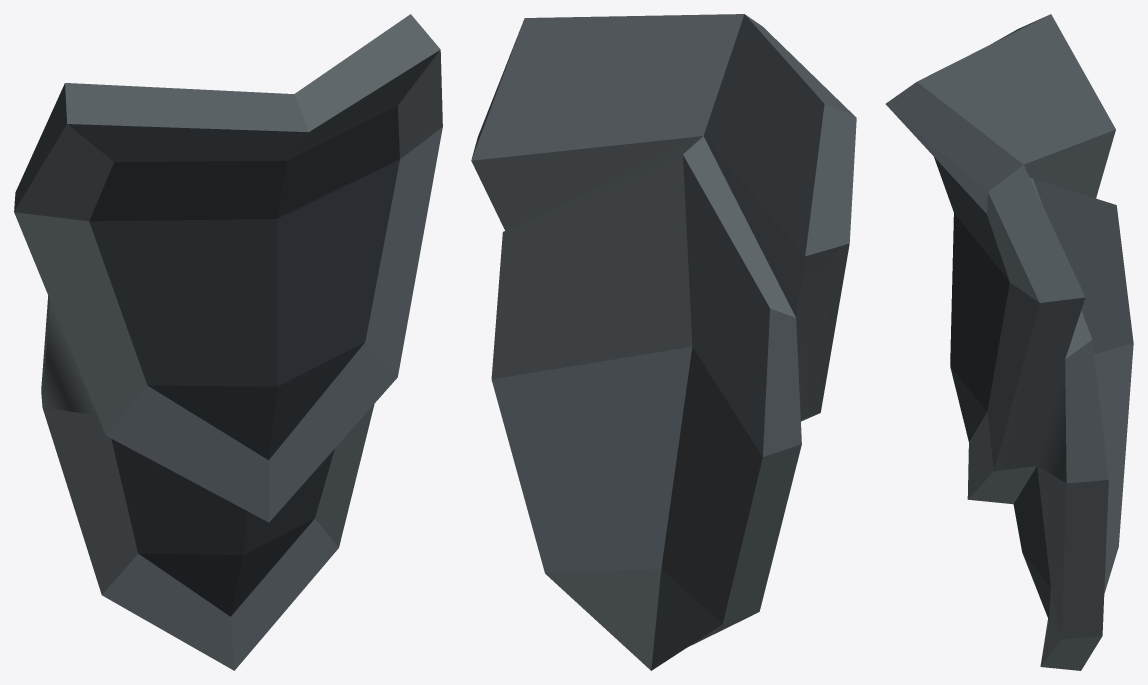
The model's file is Chr_KneeAttachRight_06_Static.fbx.
The picture shows the model from 3 angles, left to right: view 1: azimuth 30°, elevation 25°; view 2: azimuth 150°, elevation 25°; view 3: azimuth 270°, elevation 25°; orthographic projection. The views are drawn at different scales.
Parts seen in each view (by area): view 1: Chr_KneeAttachRight_06_Static; view 2: Chr_KneeAttachRight_06_Static; view 3: Chr_KneeAttachRight_06_Static.
Boxes of the visible parts, bbox=[...] form: Chr_KneeAttachRight_06_Static: bbox=[14, 14, 442, 670]; Chr_KneeAttachRight_06_Static: bbox=[471, 14, 856, 670]; Chr_KneeAttachRight_06_Static: bbox=[885, 14, 1133, 670].
Bounding box in the file's own units: 0.1583 × 0.2322 × 0.0894.
